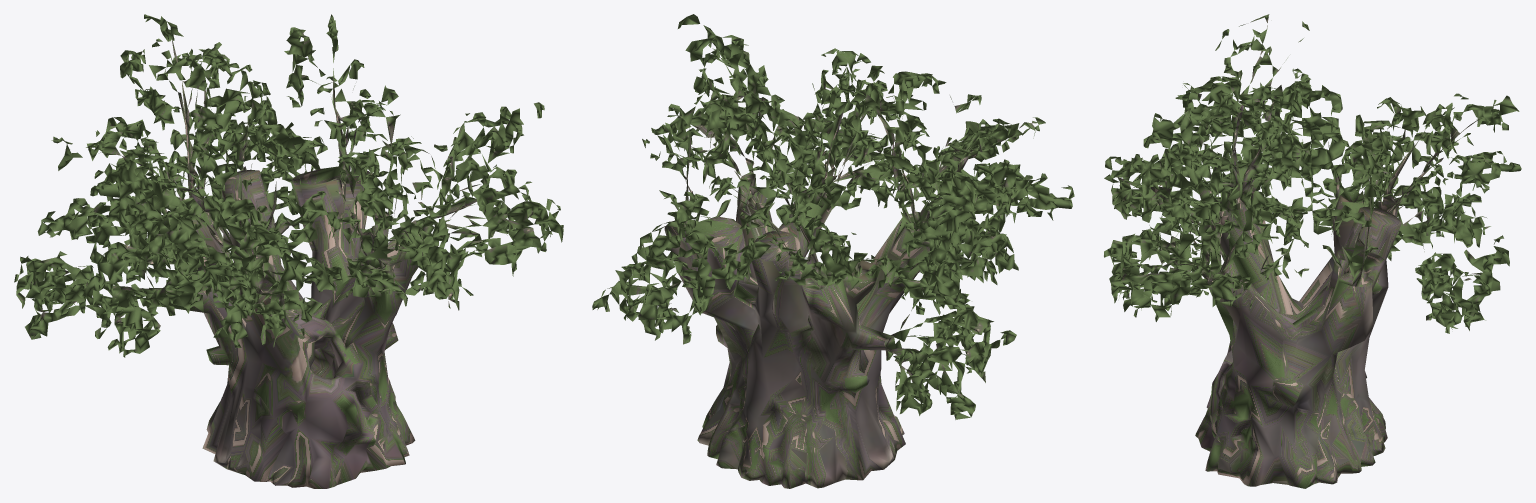
The picture shows the model from 3 angles, left to right: view 1: azimuth 30°, elevation 25°; view 2: azimuth 150°, elevation 25°; view 3: azimuth 270°, elevation 25°; orthographic projection. The views are drawn at different scales.
Bounding box in the file's own units: 1.87 × 1.68 × 1.75.
1 material, 1 textured.
